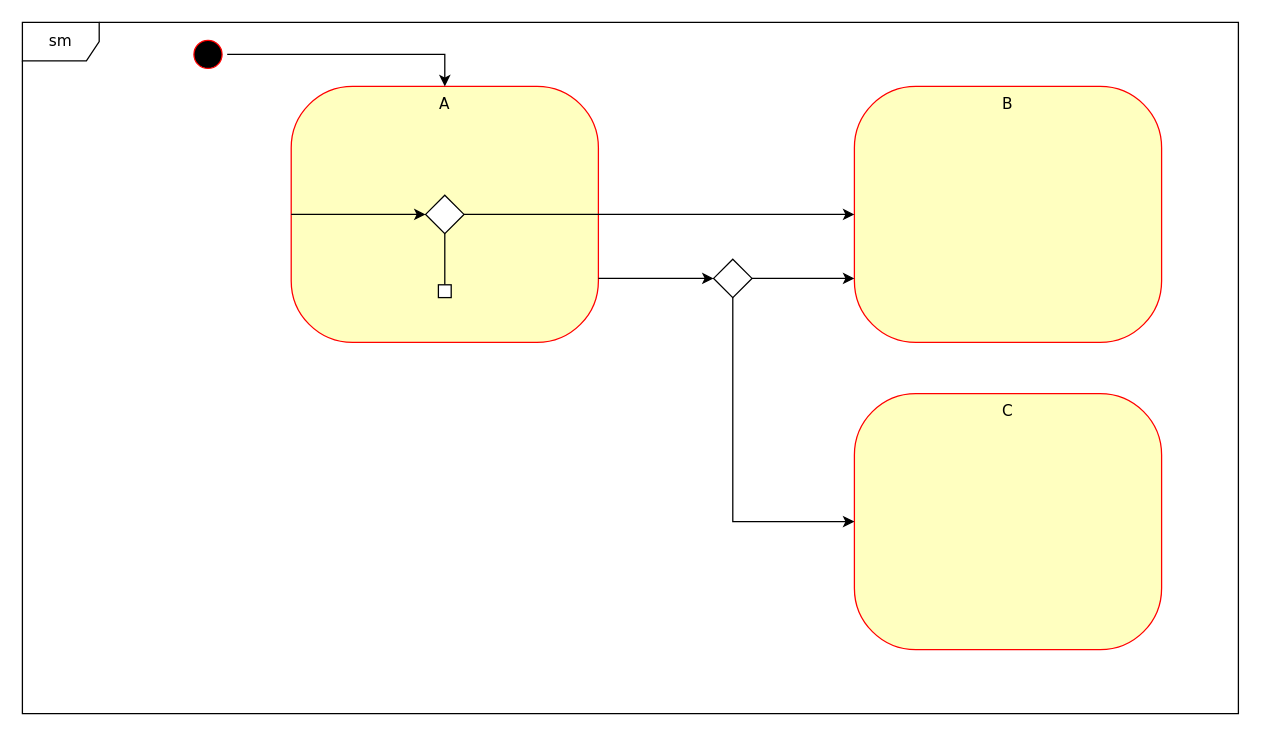
The diagram is 1261 pixels wide and 736 high, and some of its shapes have lost their labels. Each missing label, with the centre of its shape:
"B/A" belongs at (x=444, y=214).
"B/C" belongs at (x=732, y=278).
